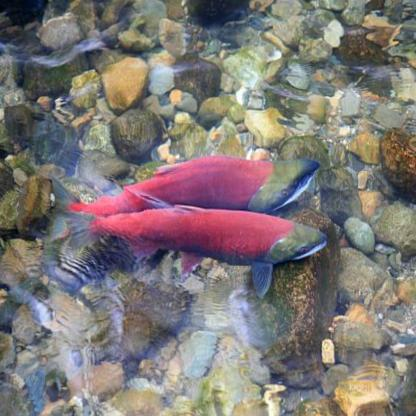sockeye: (92, 209, 323, 280), (86, 154, 329, 210)
